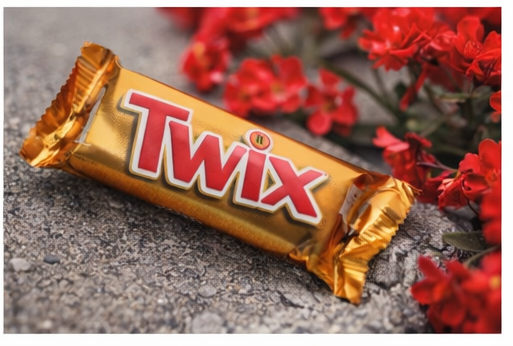TWIX: (20, 41, 421, 306)
